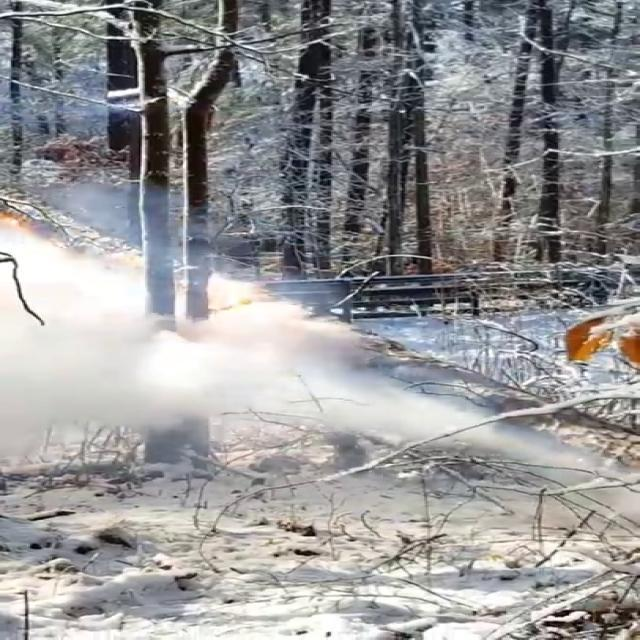Smoke: (2, 178, 543, 482)
